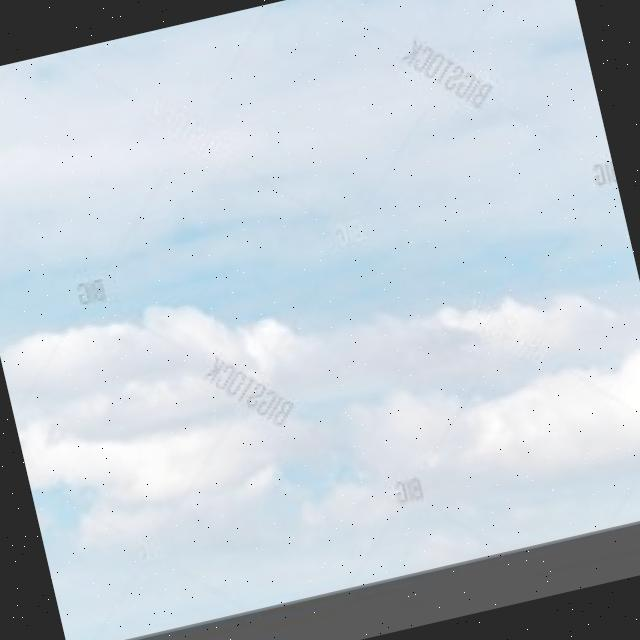Cs: (1, 189, 640, 627)
